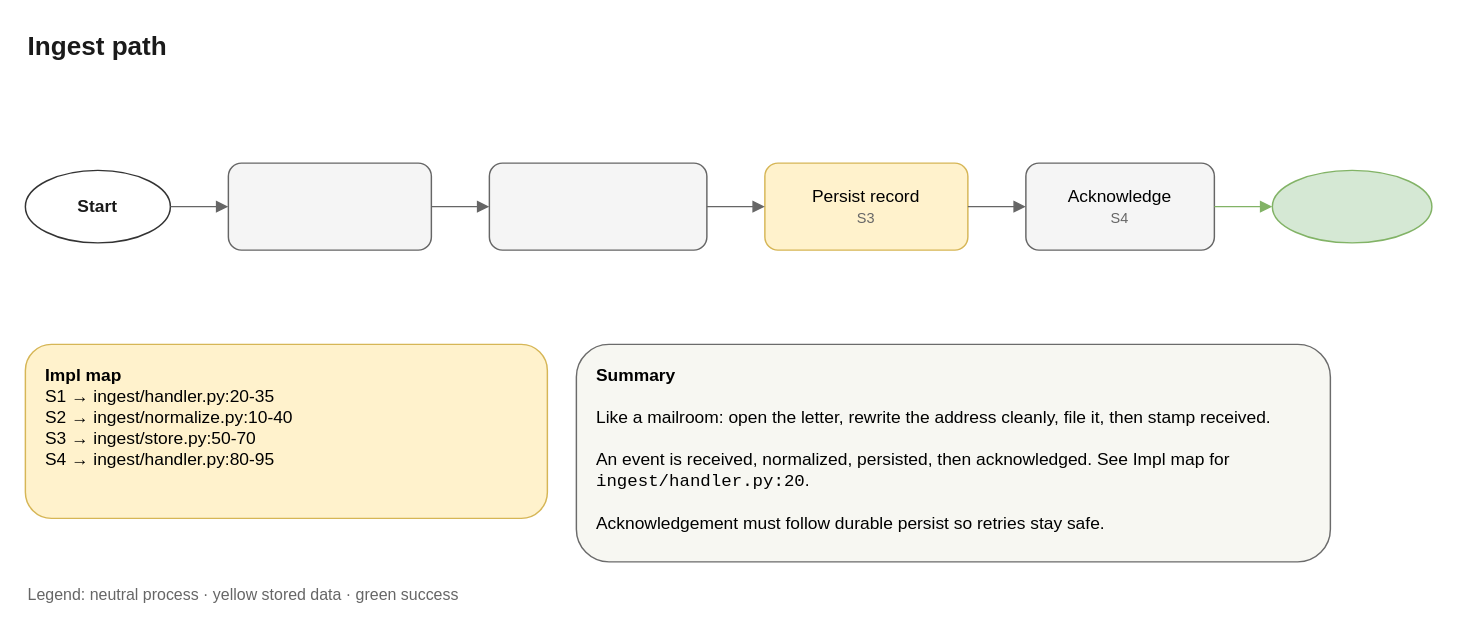
Some shapes in this 1457 by 644 pixel diagram are drawn without their labels. Each missing label, with the centre of its shape:
Normalize payload S2: the point at 597,206
Receive event S1: the point at 329,206
Success: the point at 1351,206
